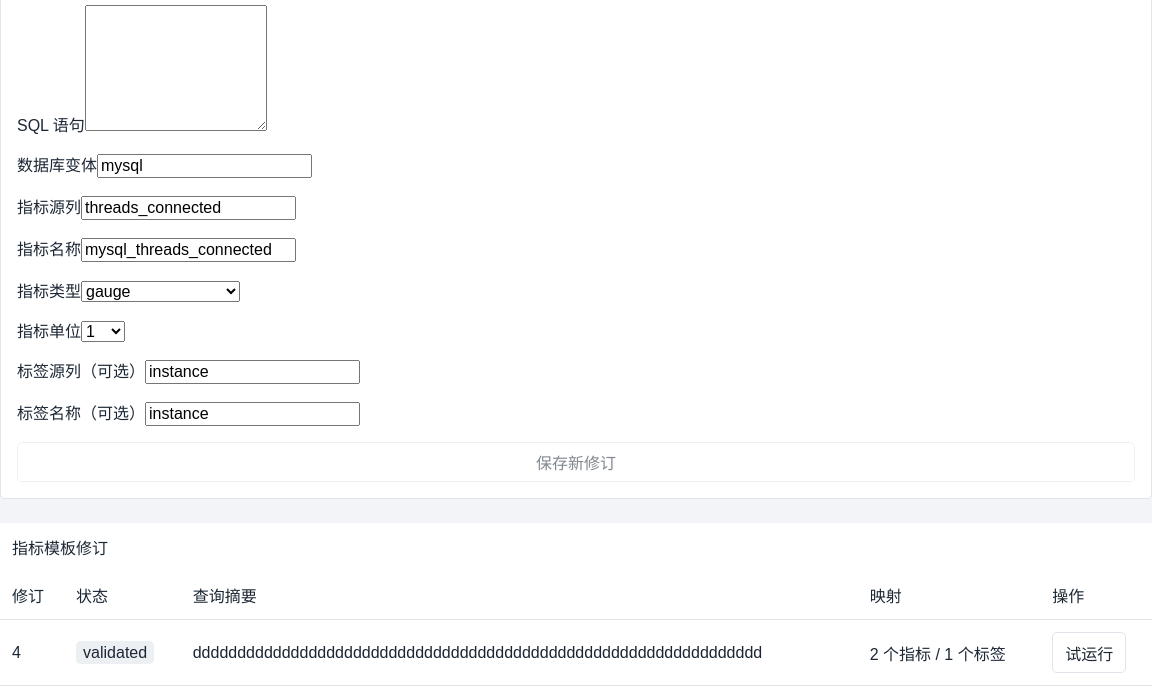
Test: Metric template management pages › refreshes revisions after a trial job reaches a terminal state
(page scrolled)
Click the button named "试运行 revision-validated" at (1089, 653), box [1052,632,1126,673]
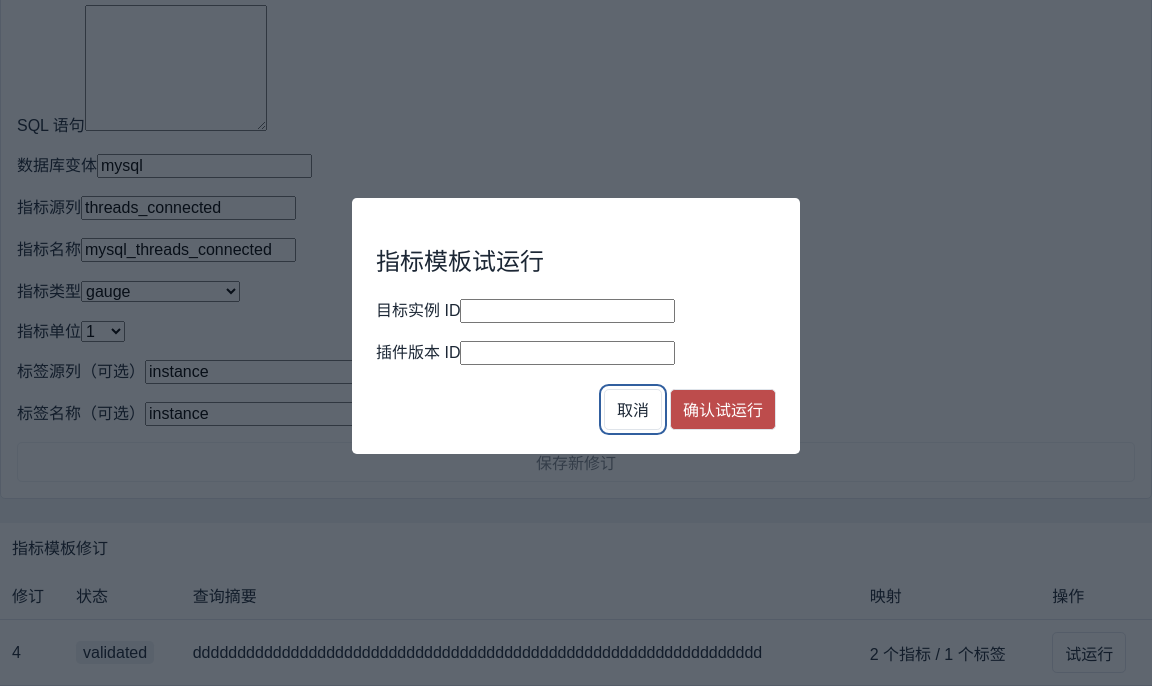
Type "instance-1" into the field labelled "目标实例 ID" at (568, 311), box [460,299,676,323]
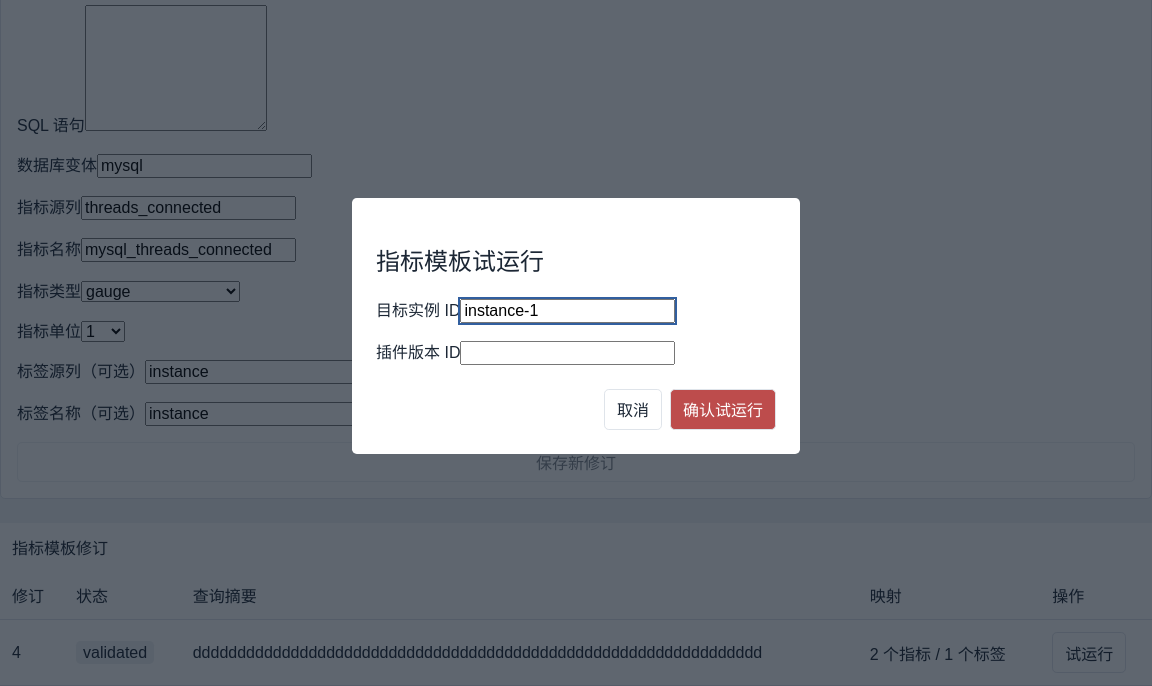
Type "plugin-version-1" into the field labelled "插件版本 ID" at (568, 353), box [460,341,676,365]
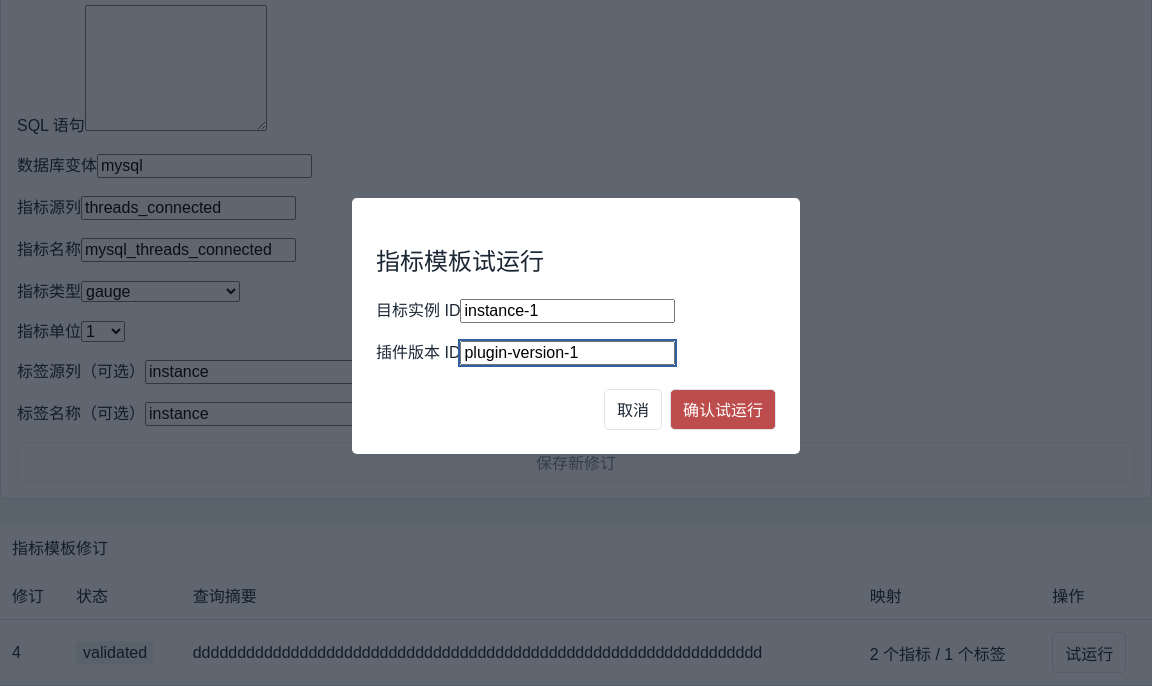
Click the button "确认试运行" at (723, 409), box [670,389,776,430]
(page scrolled)
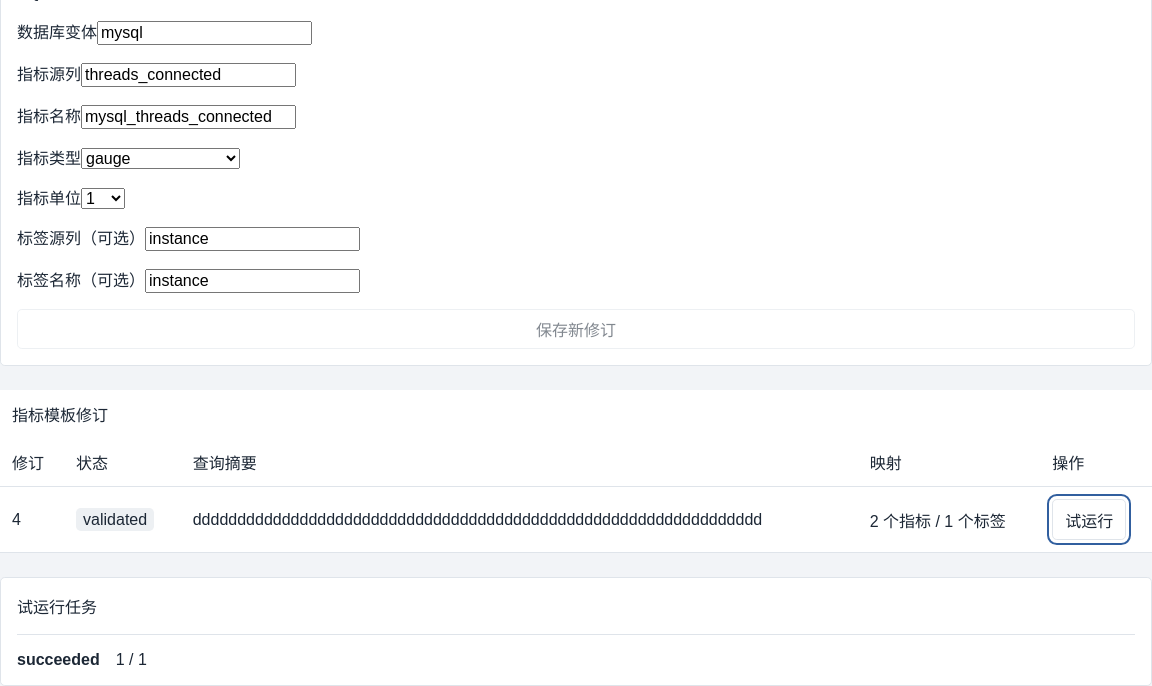
Check: the text "succeeded" is shown, box [17,651,100,669]
